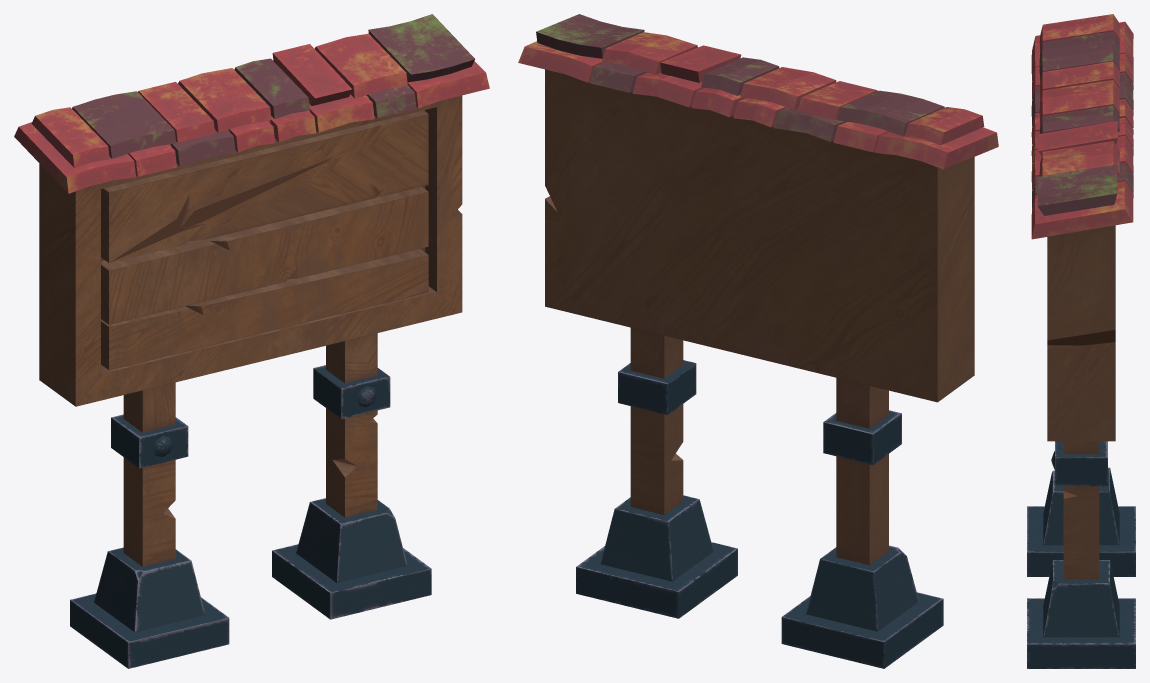
Rendered from Papan Arena 2.fbx.
3 renders of one model, left to right at view 1: azimuth 30°, elevation 25°; view 2: azimuth 150°, elevation 25°; view 3: azimuth 270°, elevation 25°, orthographic. The views are drawn at different scales.
Parts seen in each view (by area): view 1: Plane.004, Plane, Plane.002, Plane.003, Plane.001, Circle; view 2: Plane, Plane.003, Plane.002, Plane.001, Circle; view 3: Plane, Plane.002, Plane.003, Plane.001, Circle.
Boxes of the visible parts, x1=… form: Plane.004: x1=101, y1=110, x2=428, y2=370; Plane: x1=39, y1=95, x2=462, y2=566; Plane.002: x1=31, y1=14, x2=474, y2=167; Plane.003: x1=70, y1=498, x2=431, y2=668; Plane.001: x1=14, y1=61, x2=489, y2=193; Circle: x1=111, y1=365, x2=390, y2=468; Plane: x1=545, y1=69, x2=974, y2=564; Plane.003: x1=576, y1=495, x2=943, y2=668; Plane.002: x1=536, y1=14, x2=984, y2=145; Plane.001: x1=518, y1=41, x2=998, y2=169; Circle: x1=618, y1=360, x2=901, y2=464; Plane: x1=1047, y1=225, x2=1115, y2=579; Plane.002: x1=1037, y1=14, x2=1119, y2=215; Plane.003: x1=1027, y1=467, x2=1135, y2=668; Plane.001: x1=1031, y1=21, x2=1133, y2=239; Circle: x1=1051, y1=441, x2=1107, y2=486.
Bounding box in the file's own units: 834 × 1009 × 200.
